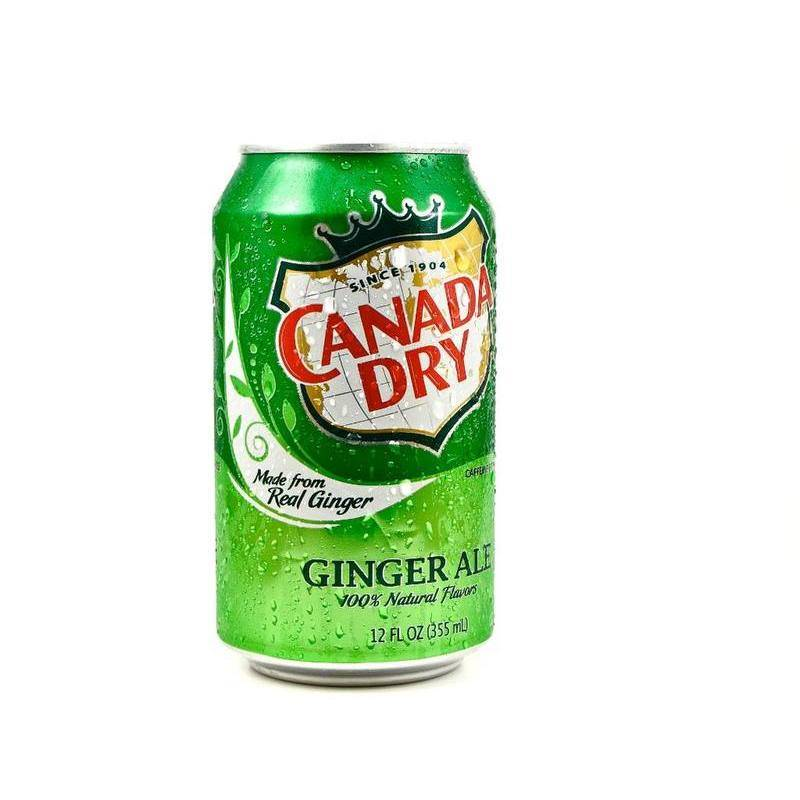Lata: (205, 134, 501, 696)
